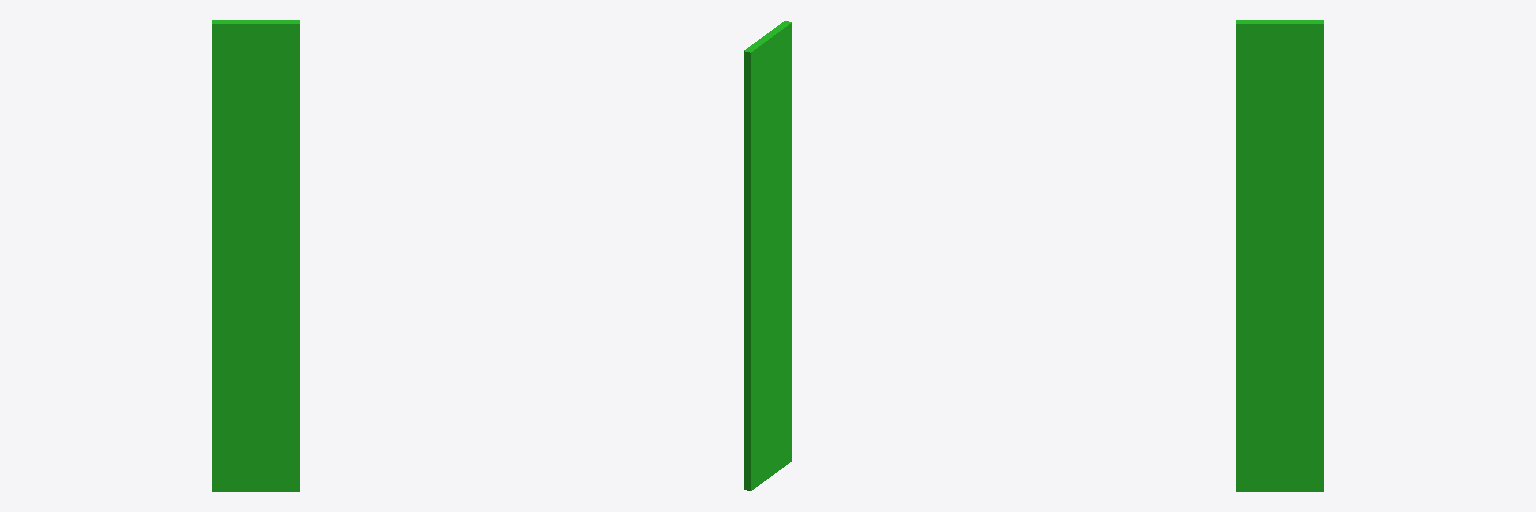
The robot description file, URDF, robot "board":
<?xml version="1.0" ?>
<robot name="board">

  <link name="board">
    <visual>
      <geometry>
        <box size=".005 .05 .29"/>
      </geometry>
      <material name="green">
        <color rgba="0.2 0.8 0.2 1"/>
      </material>
    </visual>
    <collision>
      <geometry>
        <box size=".005 .05 .29"/>
      </geometry>
    </collision>
    <inertial>
      <mass value="0.2"/>
      <inertia ixx="1" ixy="0" ixz="0" iyy="1.3" iyz="0" izz="0.5"/>
    </inertial>
  </link>
</robot>

--- Facts derived from the render (not from the file) ---
Views: 3 orthographic renders of the robot side by side, from view 1: azimuth 90°, elevation 25°; view 2: azimuth 150°, elevation 25°; view 3: azimuth 270°, elevation 25°.
Model board with 1 links and 0 joints (none), rooted at board, posed every joint at zero.
Visible links, largest first — view 1: board; view 2: board; view 3: board.
Link boxes in pixels (x1=…): board: x1=212, y1=20, x2=299, y2=491; board: x1=744, y1=21, x2=791, y2=490; board: x1=1236, y1=20, x2=1323, y2=491.
Size in the robot's own frame: 0.005 by 0.05 by 0.29 metres.
Geometry: primitives only (box / cylinder / sphere), no mesh files.
